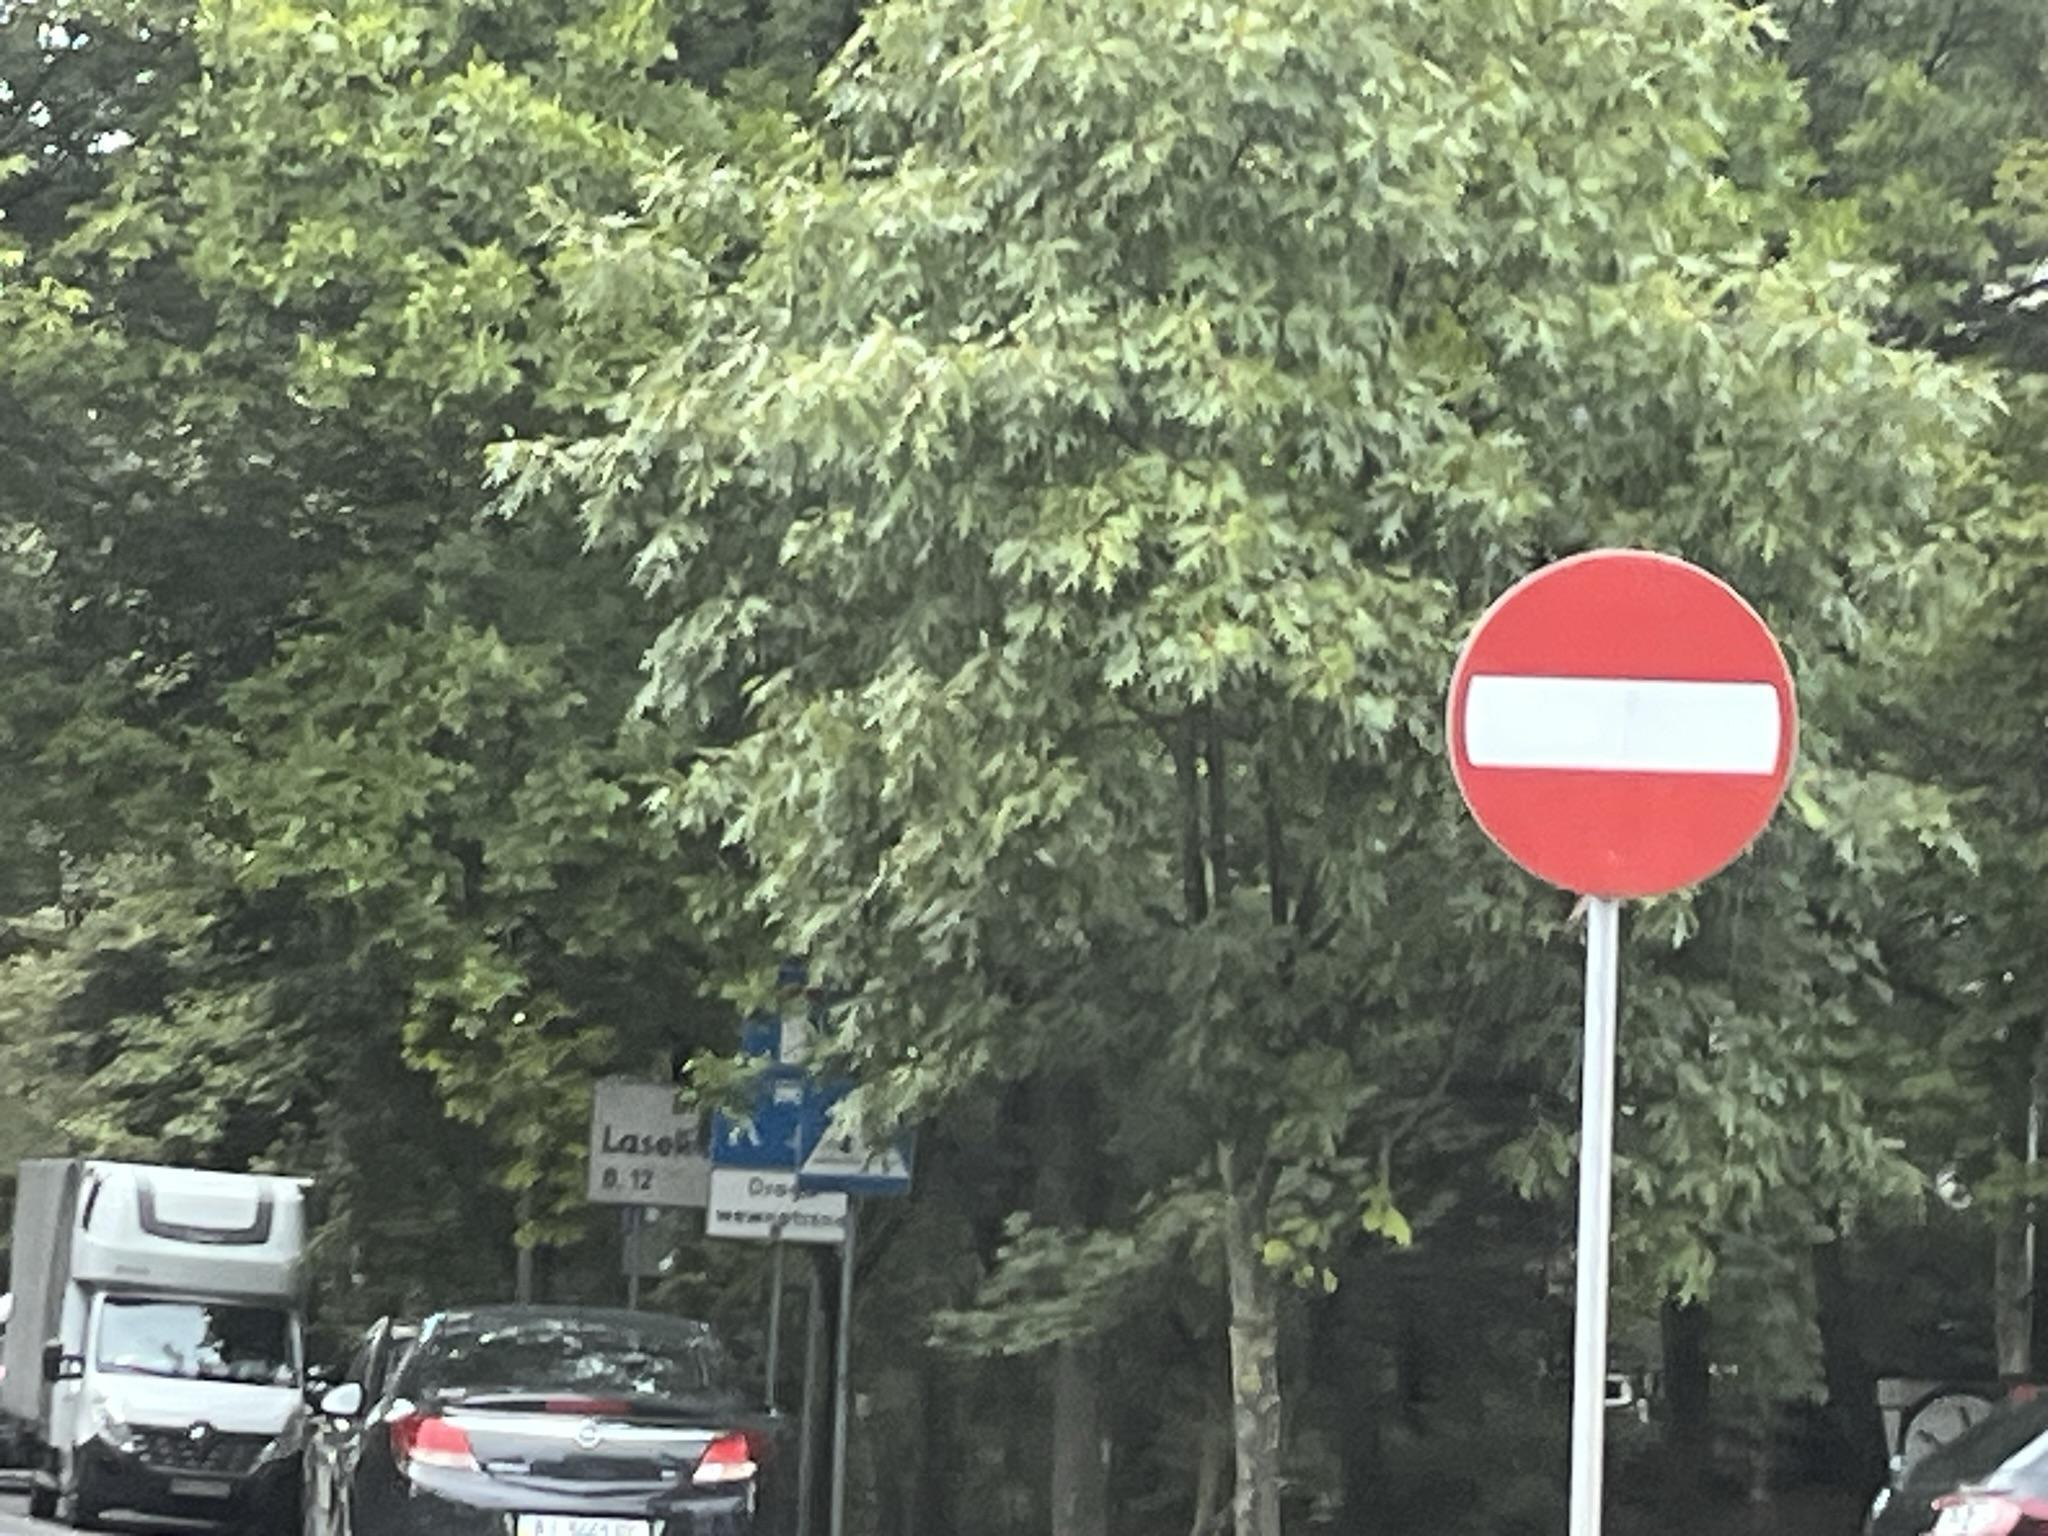information: (797, 1066, 918, 1199), (708, 1163, 848, 1250)
prohibitory: (1440, 542, 1796, 904)
